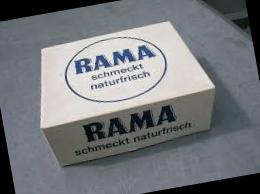Kertas: (41, 22, 214, 165)
